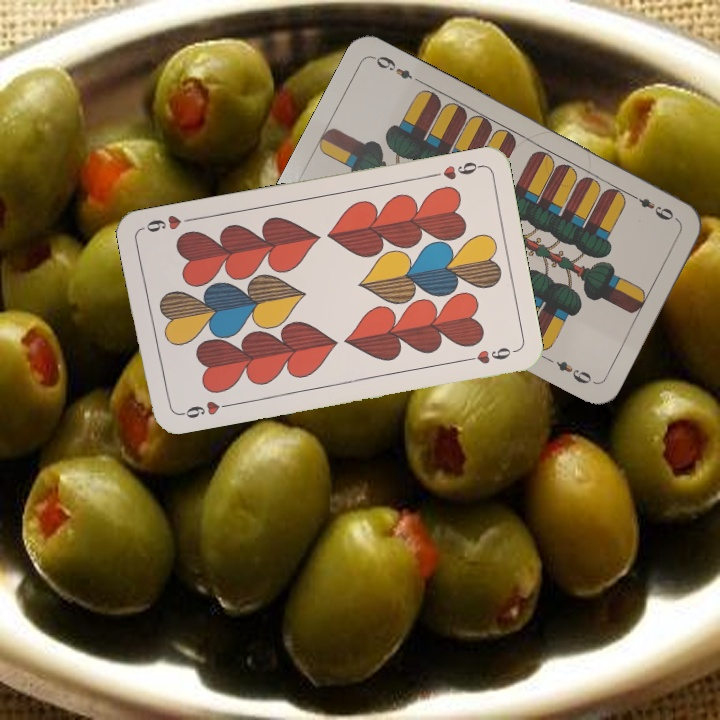E9: (625, 189, 680, 223)
H9: (425, 157, 484, 182), (174, 397, 233, 421)
